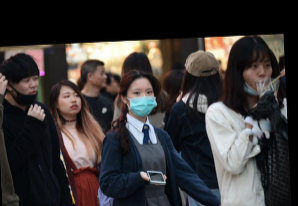mask_weared_incorrect: (242, 57, 275, 96), (15, 74, 40, 106)
with_mask: (127, 85, 158, 117)
without_mask: (59, 89, 83, 117), (93, 67, 108, 88)
